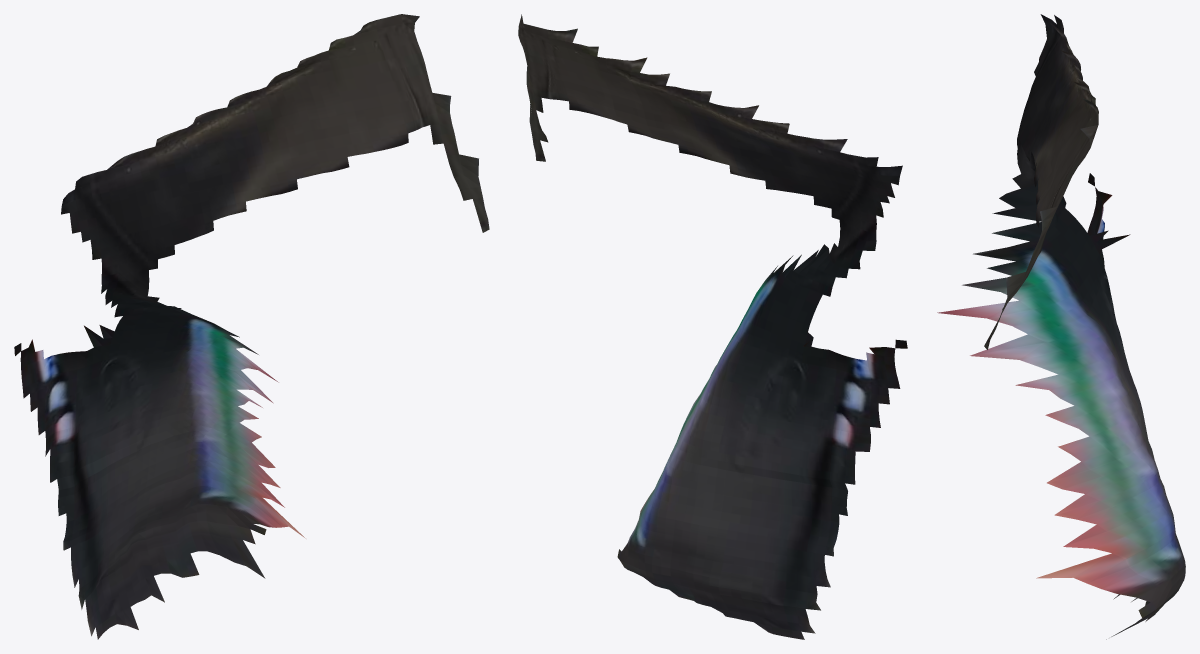
File: observed-surface.glb
3 renders of one model, left to right at view 1: azimuth 30°, elevation 25°; view 2: azimuth 150°, elevation 25°; view 3: azimuth 270°, elevation 25°, orthographic. The views are drawn at different scales.
Parts seen in each view (by area): view 1: geometry_0; view 2: geometry_0; view 3: geometry_0.
Boxes of the visible parts, x1,y1,x2,y2 form: geometry_0: [14, 14, 489, 639]; geometry_0: [518, 14, 907, 639]; geometry_0: [937, 14, 1185, 639].
Bounding box in the file's own units: 0.5056 × 0.6306 × 0.2327.
Materials: 1 (1 with a texture image).
